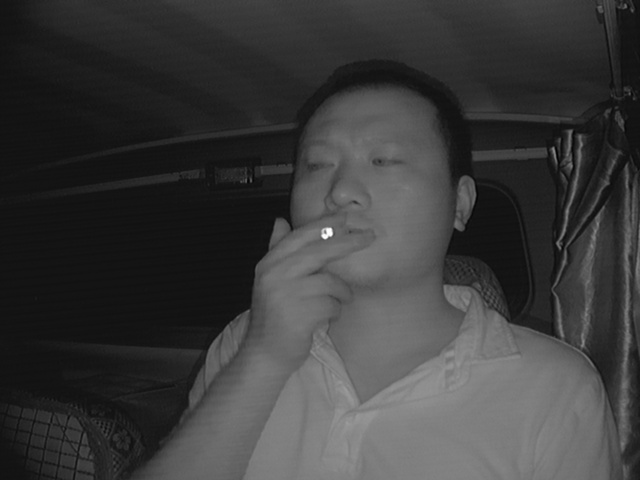hand: (250, 209, 369, 354)
